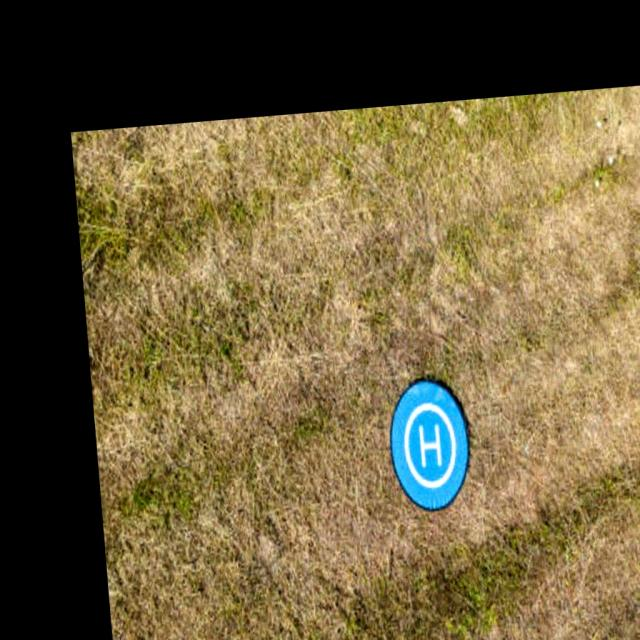helipad: (402, 399, 457, 489)
